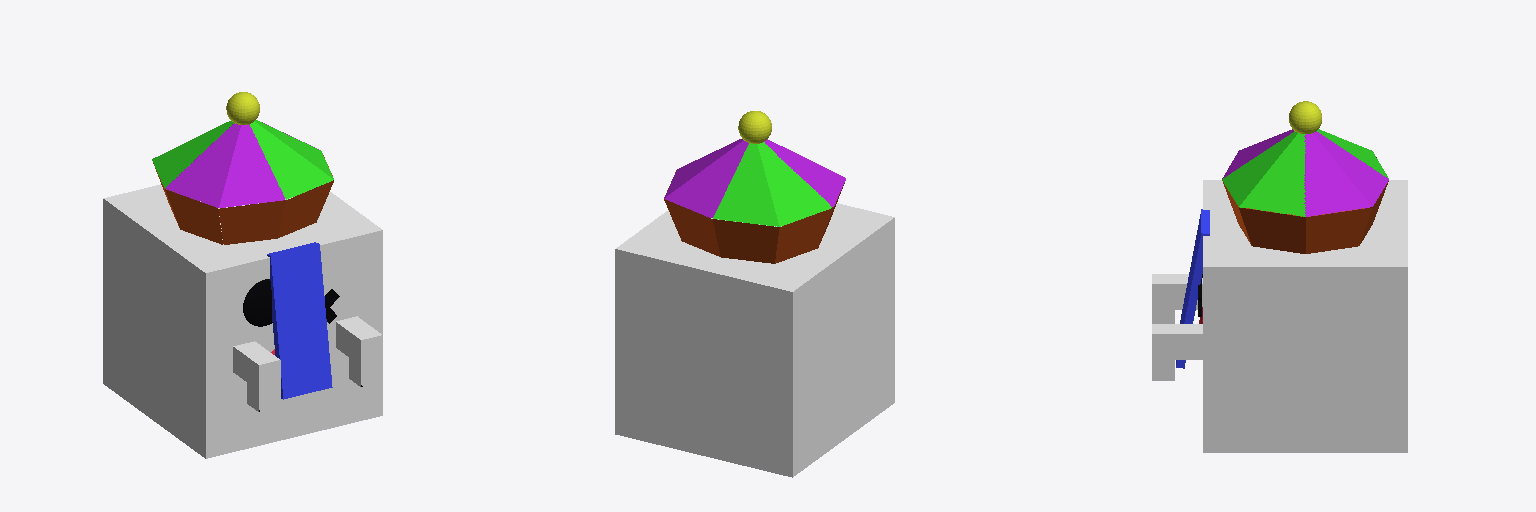
3 views of the same model, side by side, from view 1: azimuth 30°, elevation 25°; view 2: azimuth 150°, elevation 25°; view 3: azimuth 270°, elevation 25° (orthographic).
Visible parts, largest first — view 1: 立方体.007; view 2: 立方体.007; view 3: 立方体.007.
Boxes of the visible parts, x1=… form: 立方体.007: x1=103, y1=92, x2=382, y2=458; 立方体.007: x1=615, y1=111, x2=894, y2=477; 立方体.007: x1=1152, y1=101, x2=1407, y2=452.
Size of the model in its own units: 2 by 3.3 by 2.5.
1 materials, 1 textured.